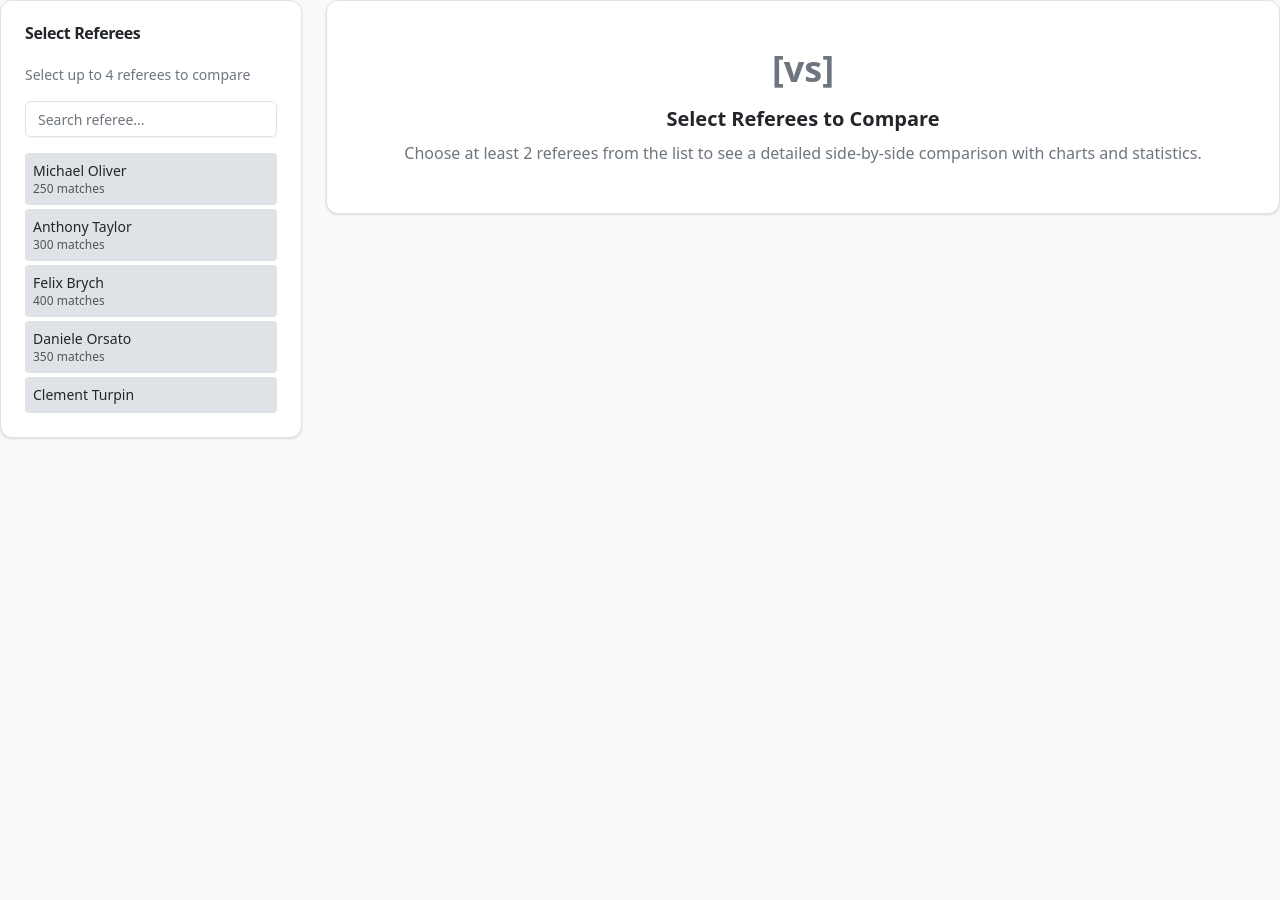
Test: RefereeComparisonClient › Referee Selection › shows comparison when 2 referees are selected
The width and height of the screenshot is (1280, 900).
Note: Select first referee
Click the button "Michael Oliver 250 matches": click(151, 179) [25,153,277,205]
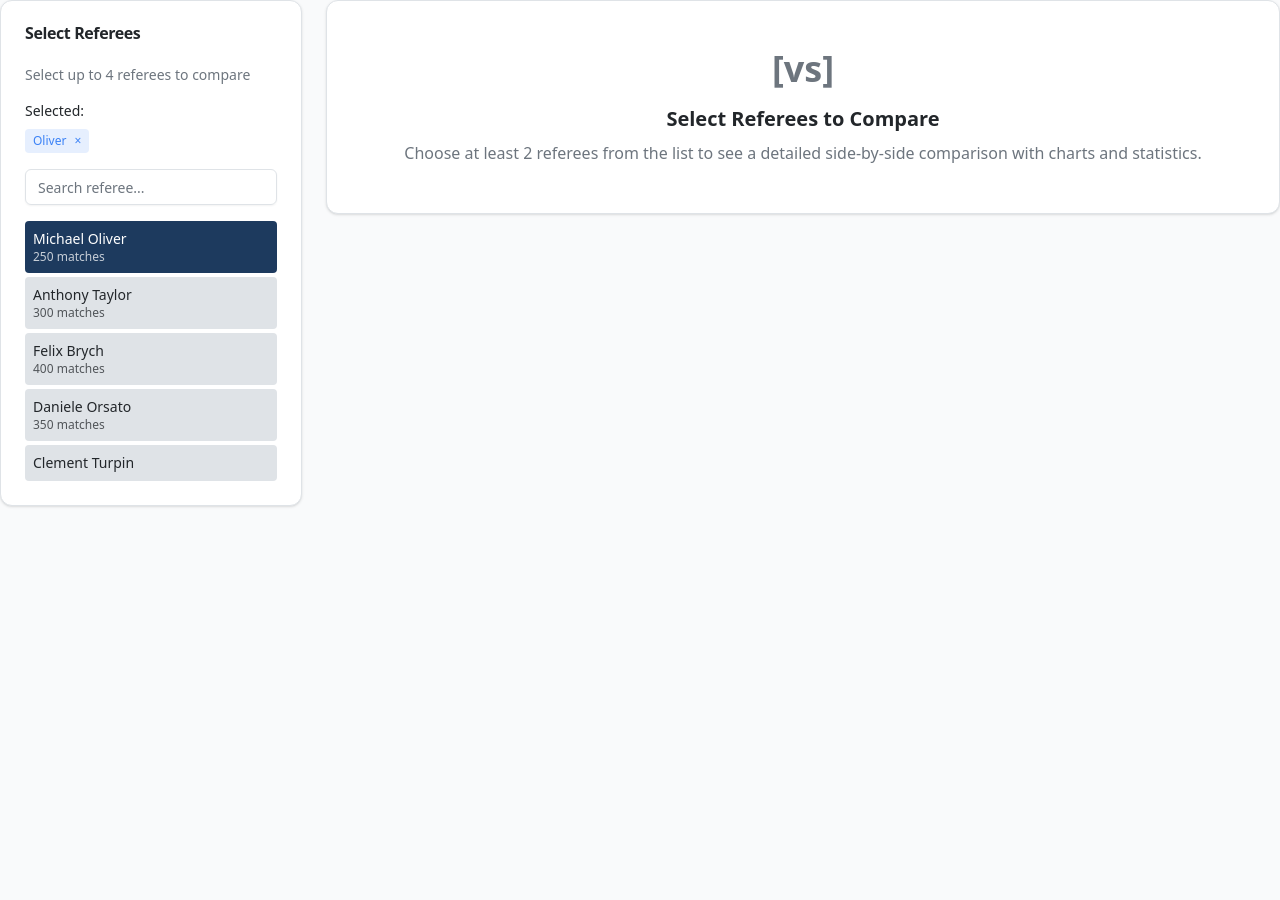
Note: Select second referee
Click the button "Anthony Taylor 300 matches": click(151, 303) [25,277,277,329]
(page scrolled)
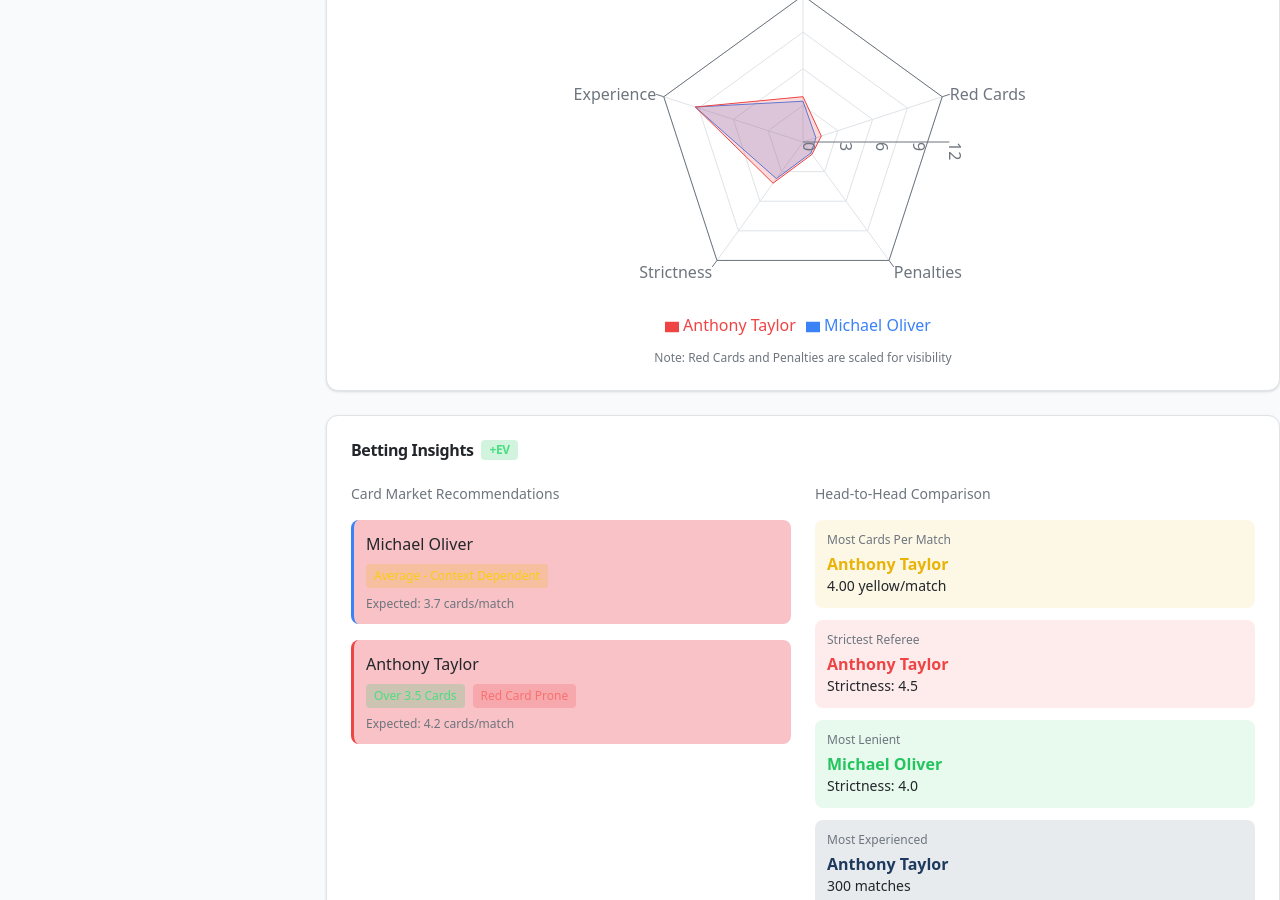
Now the text "Betting Insights" is shown, box [351,439,474,461]
